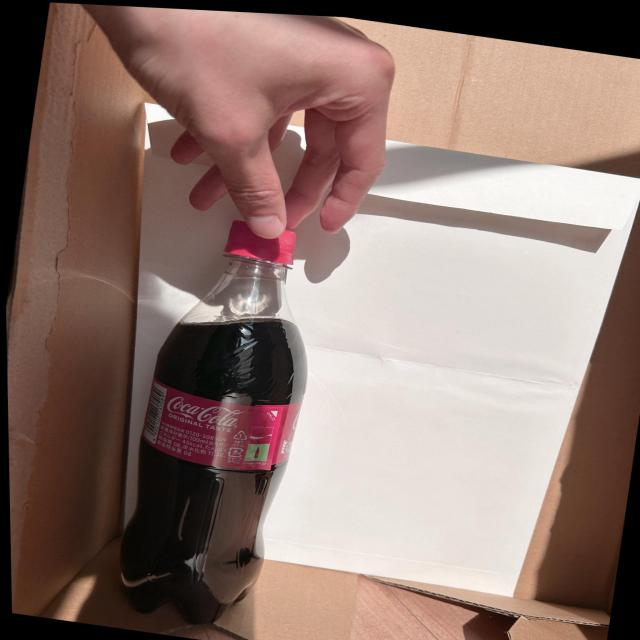high: (121, 221, 307, 623)
